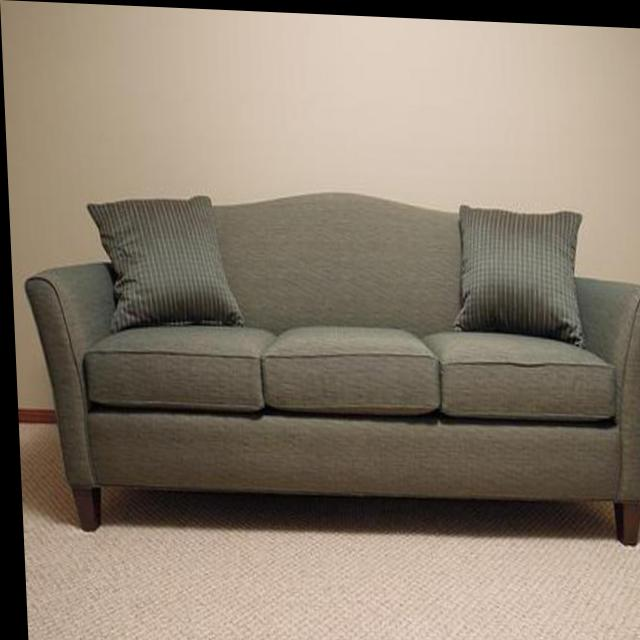Sofa: (21, 179, 640, 552)
